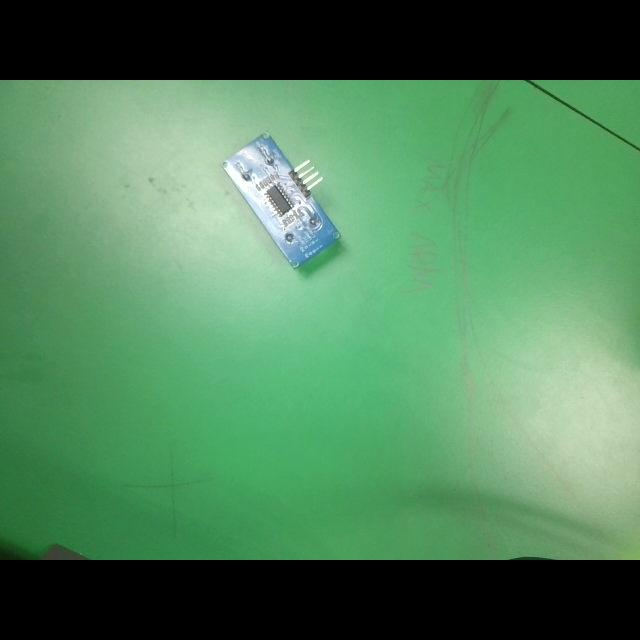ultrasonic_hc-sr04: (224, 130, 340, 270)
